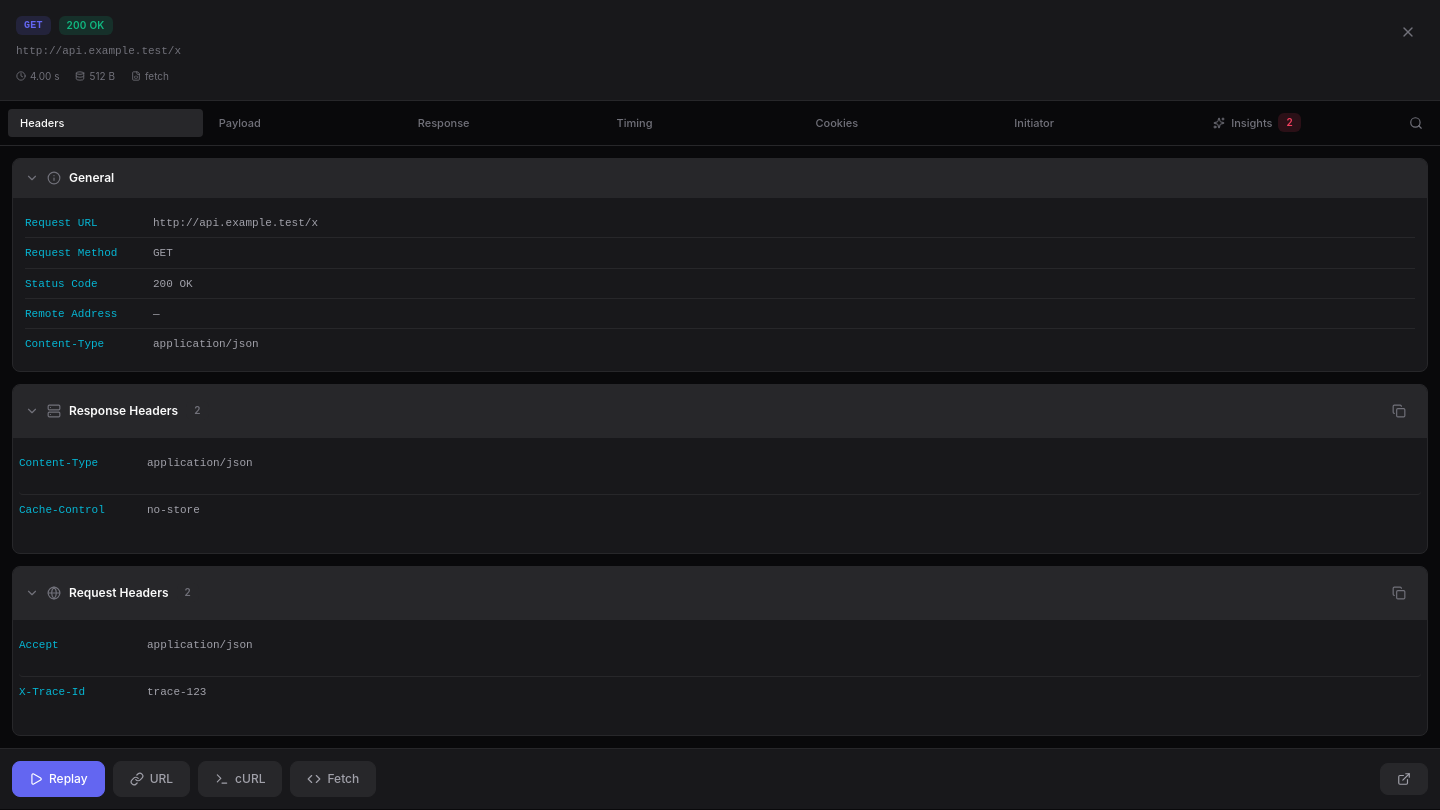
Scenario: NetworkRequestDetails (HTTP) › summarizes insights with a severity badge on the tab
Click the button "Insights 2" at (1299, 123), box [1201,107,1396,138]
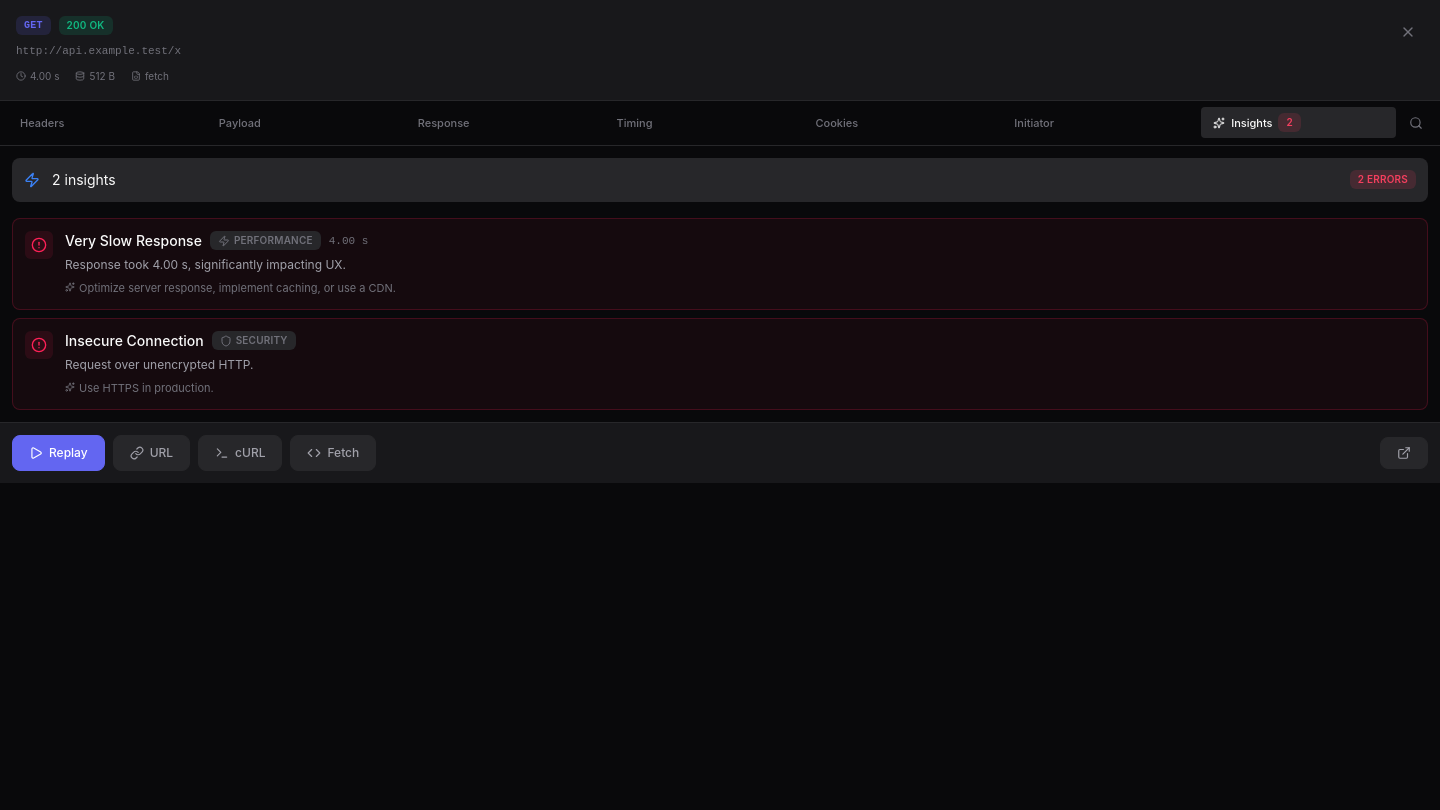
Now the text "Very Slow Response" is shown, box [65,231,202,251]
Now the text "Insecure Connection" is shown, box [65,331,204,351]
Now the text "2 errors" is shown, box [1350,170,1416,189]
